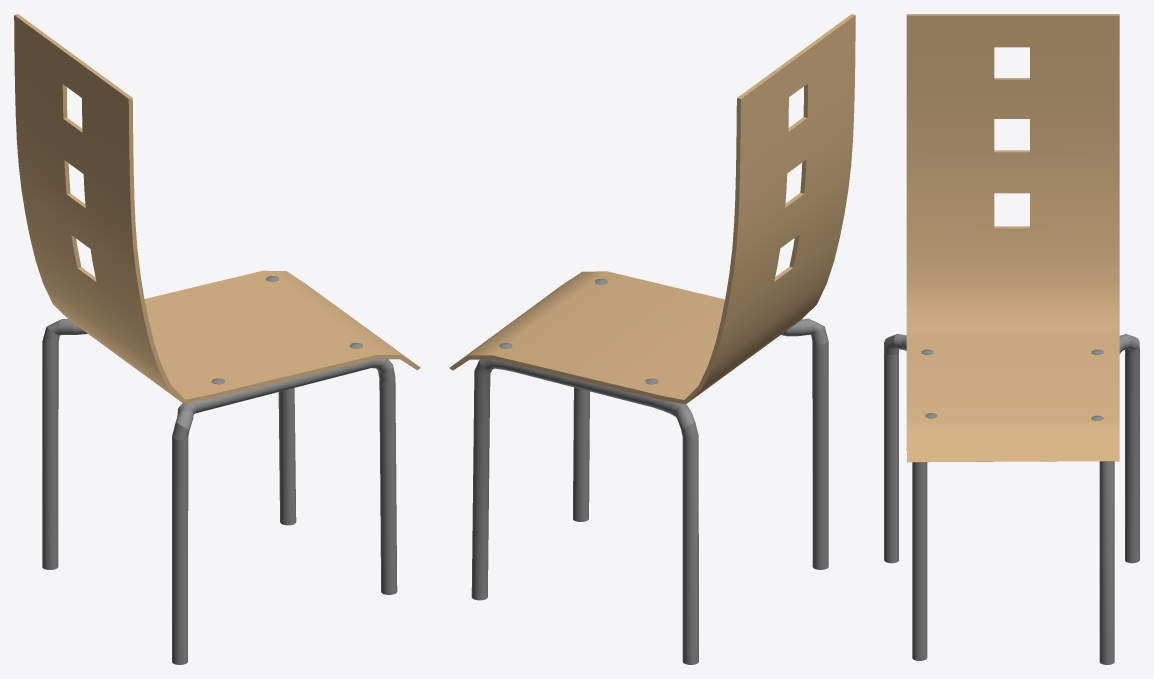
The model's file is chaise_cafet_vb.fbx.
3 views of the same model, side by side, from view 1: azimuth 30°, elevation 25°; view 2: azimuth 150°, elevation 25°; view 3: azimuth 270°, elevation 25° (orthographic). The views are drawn at different scales.
Parts seen in each view (by area): view 1: chaise; view 2: chaise; view 3: chaise.
Boxes of the visible parts, box(x1,y1,x2,y2) form: chaise: box(14, 14, 420, 664); chaise: box(449, 14, 855, 664); chaise: box(884, 14, 1139, 664).
Size of the model in its own units: 364 by 675 by 297.
